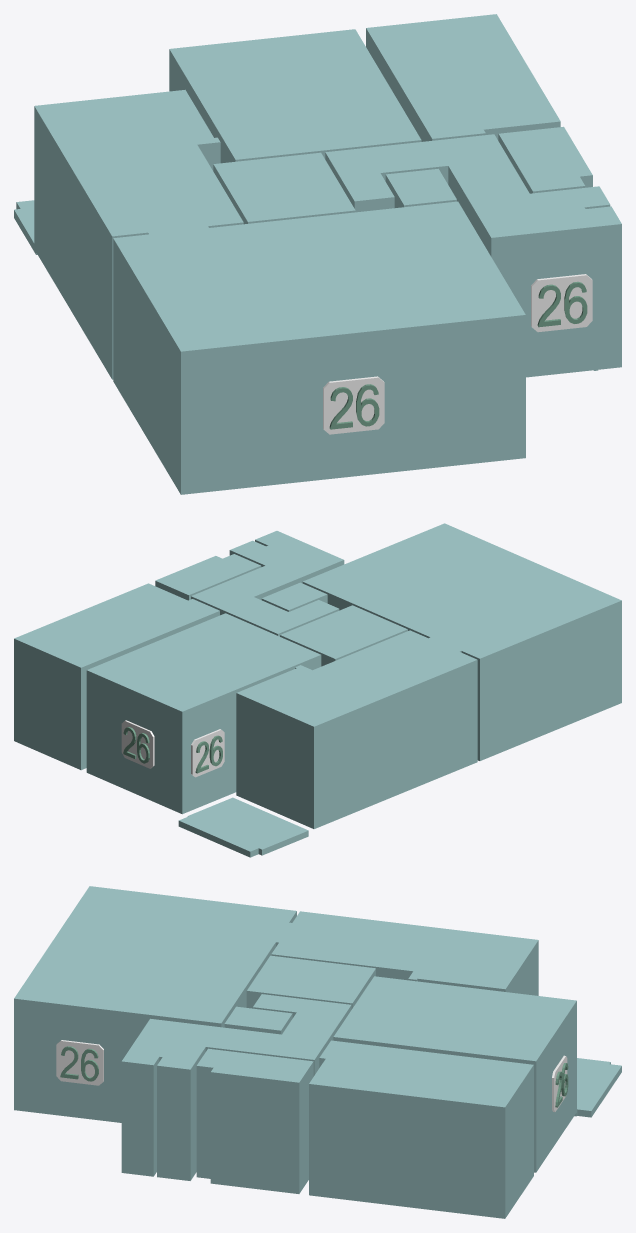
3 views of the same model, one above another, from view 1: azimuth 30°, elevation 25°; view 2: azimuth 150°, elevation 25°; view 3: azimuth 270°, elevation 25° (orthographic). The views are drawn at different scales.
Parts seen in each view (by area): view 1: g_7, g_6, g_3, g_0, g_1, g_4, g_2, g_14, g_17, g_5, g_8; view 2: g_7, g_6, g_0, g_1, g_3, g_8, g_4, g_2, g_5, g_23, g_11; view 3: g_7, g_1, g_0, g_3, g_2, g_6, g_4, g_8, g_20, g_5.
Part boxes in pixels (box(x1,y1,x2,y2)): g_7: box(113, 201, 525, 494); g_6: box(34, 89, 243, 379); g_3: box(325, 134, 621, 377); g_0: box(169, 29, 421, 163); g_1: box(366, 14, 560, 141); g_4: box(213, 152, 355, 224); g_2: box(498, 126, 592, 193); g_14: box(531, 274, 592, 332); g_17: box(323, 376, 384, 434); g_5: box(385, 168, 456, 207); g_8: box(14, 200, 37, 254); g_7: box(302, 523, 621, 760); g_6: box(236, 630, 477, 828); g_0: box(86, 613, 321, 814); g_1: box(14, 583, 219, 770); g_3: box(191, 531, 344, 636); g_8: box(178, 797, 308, 857); g_4: box(280, 605, 407, 666); g_2: box(155, 554, 261, 600); g_5: box(261, 582, 327, 611); g_23: box(121, 720, 154, 768); g_11: box(191, 729, 224, 777); g_7: box(14, 886, 296, 1122); g_1: box(309, 1040, 533, 1218); g_0: box(333, 976, 576, 1172); g_3: box(121, 994, 351, 1180); g_2: box(196, 1048, 313, 1193); g_6: box(271, 911, 538, 995); g_4: box(246, 955, 375, 1009); g_8: box(574, 1058, 621, 1117); g_20: box(56, 1040, 103, 1085); g_5: box(224, 1006, 292, 1034).
Size of the model in its own units: 10.96 by 2.74 by 12.73.
